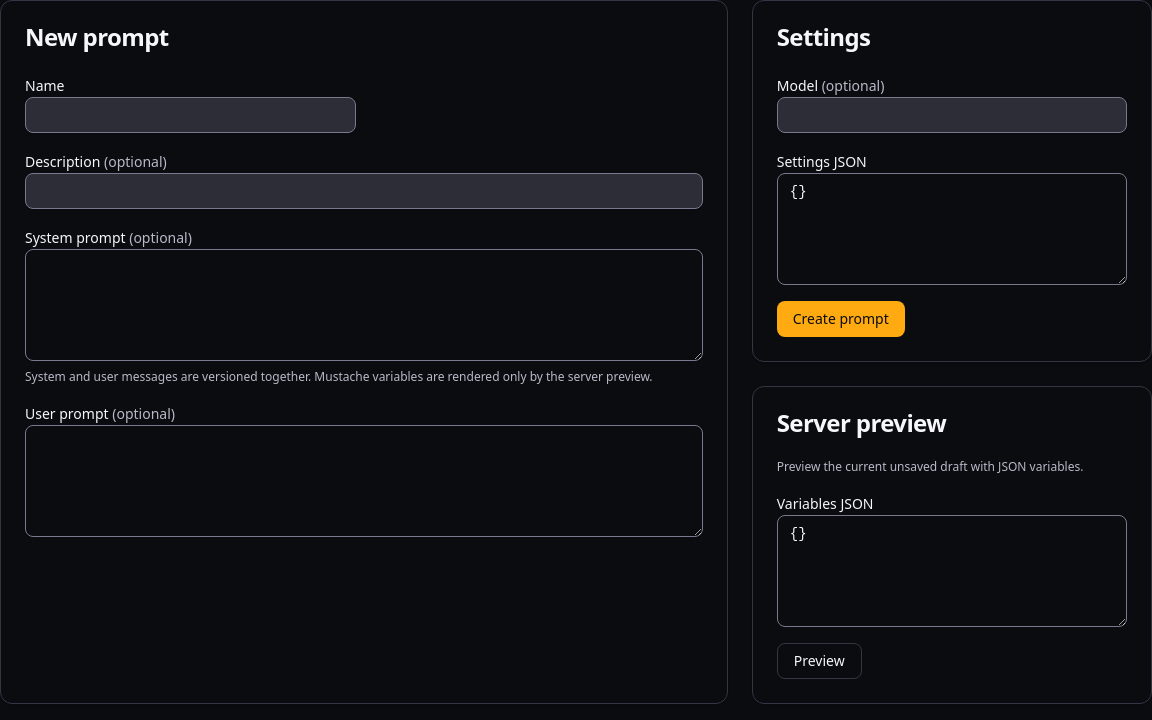
Test: PromptComposer › asks for a prompt before previewing an empty draft
Click the button with test id "preview-prompt".
click(819, 661)  # box top-left (777, 643), bottom-right (862, 679)
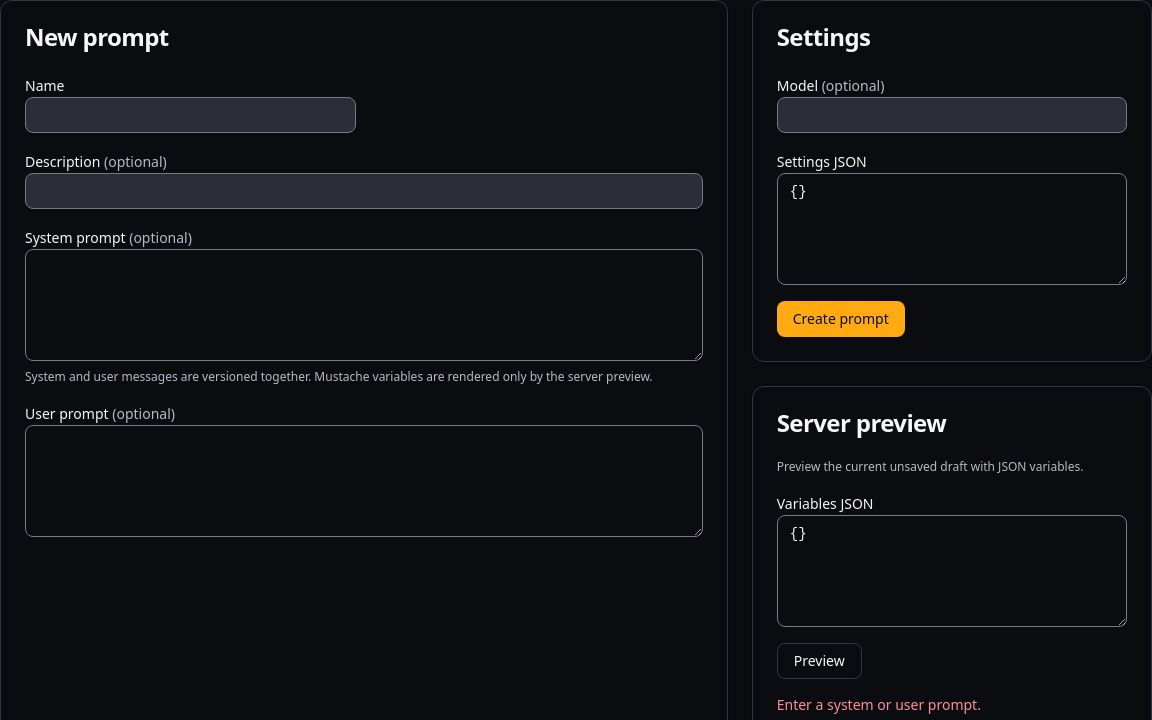
Now the text "Enter a system or user prompt." is shown, box top-left (777, 695), bottom-right (981, 714)
